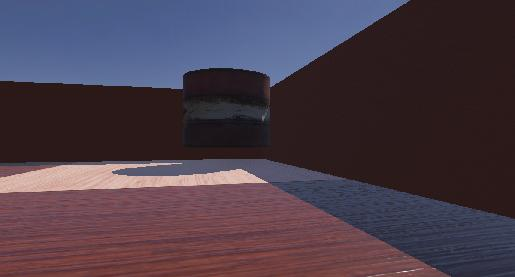OilBarrel: (172, 64, 283, 175)
